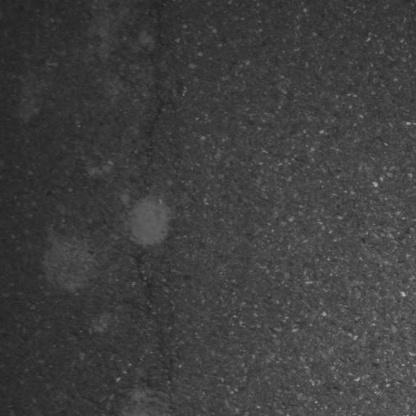Cracks: (143, 7, 170, 160), (133, 249, 169, 347)
